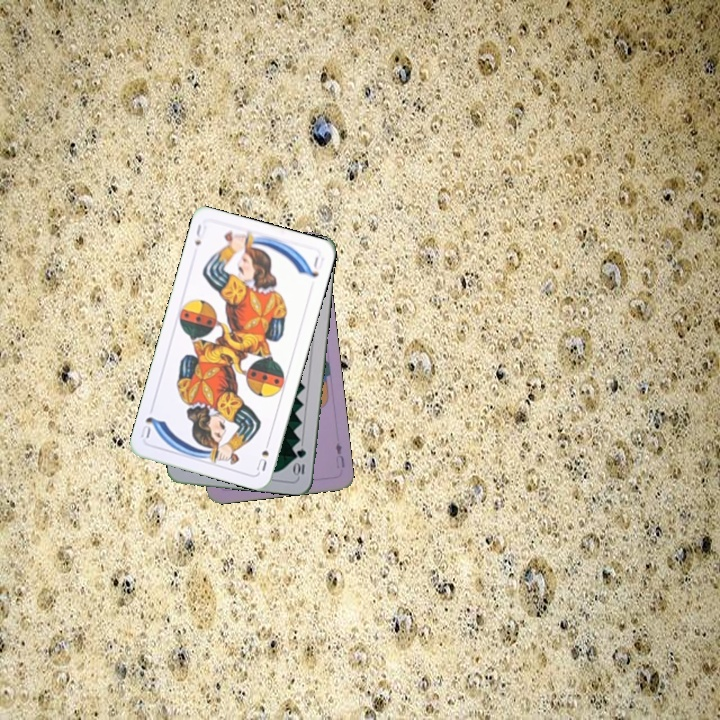EU: (331, 438, 347, 471)
G10: (291, 445, 308, 478)
SU: (252, 435, 272, 474), (191, 220, 209, 248)
